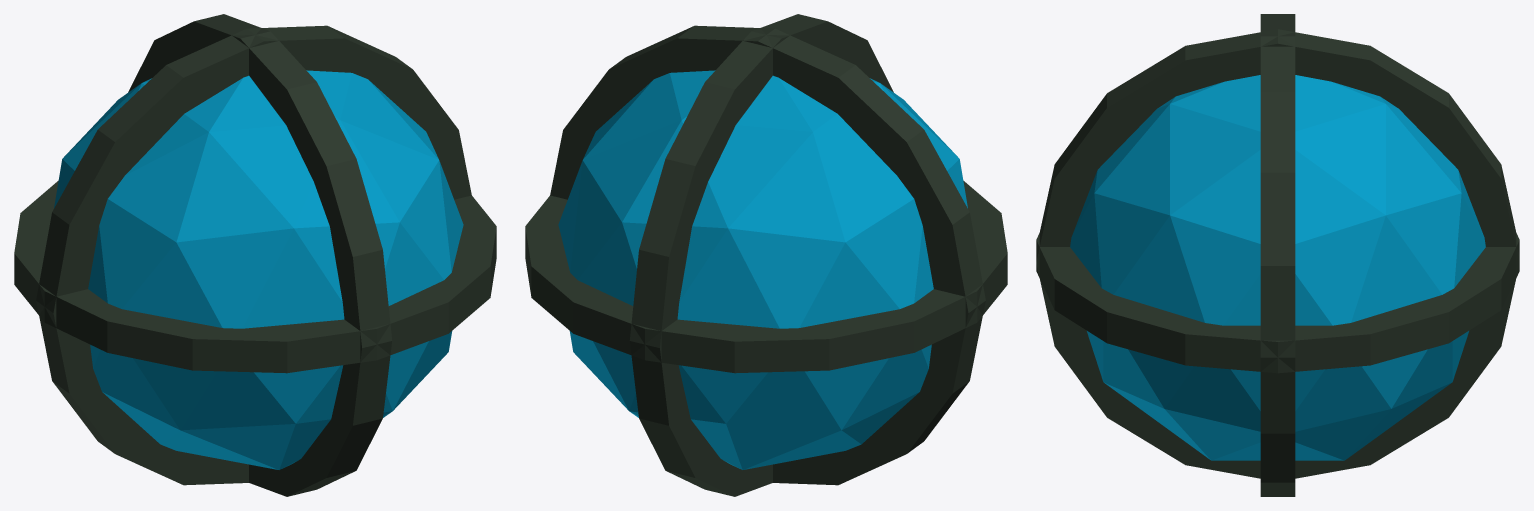
Rendered from blue_core.gltf.
The picture shows the model from 3 angles, left to right: view 1: azimuth 30°, elevation 25°; view 2: azimuth 150°, elevation 25°; view 3: azimuth 270°, elevation 25°; orthographic projection.
Visible parts, largest first — view 1: Icosphere; view 2: Icosphere; view 3: Icosphere.
Boxes of the visible parts, x1=… form: Icosphere: x1=14, y1=14, x2=496, y2=496; Icosphere: x1=525, y1=14, x2=1007, y2=496; Icosphere: x1=1036, y1=14, x2=1519, y2=496.
Bounding box in the file's own units: 0.28 × 0.28 × 0.28.
